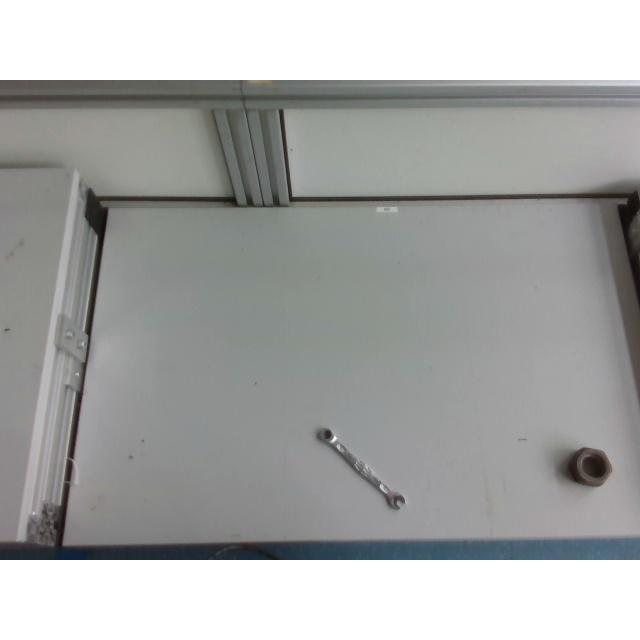M30: (568, 446, 612, 486)
Wrench: (317, 428, 405, 508)
